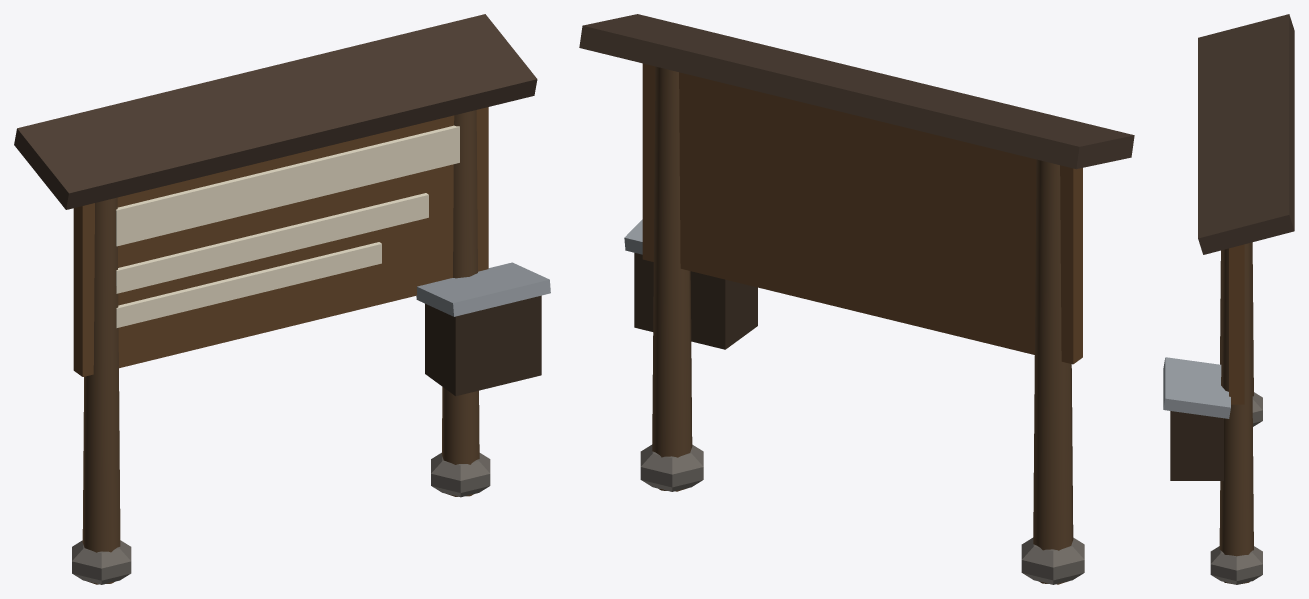
File: trailhead_sign.glb
The picture shows the model from 3 angles, left to right: view 1: azimuth 30°, elevation 25°; view 2: azimuth 150°, elevation 25°; view 3: azimuth 270°, elevation 25°; orthographic projection. The views are drawn at different scales.
Parts seen in each view (by area): view 1: trailhead_sign; view 2: trailhead_sign; view 3: trailhead_sign.
Boxes of the visible parts, x1,y1,x2,y2 form: trailhead_sign: [14, 14, 550, 584]; trailhead_sign: [579, 14, 1134, 584]; trailhead_sign: [1163, 14, 1294, 584].
Size of the model in its own units: 3 by 2.71 by 0.8285.
